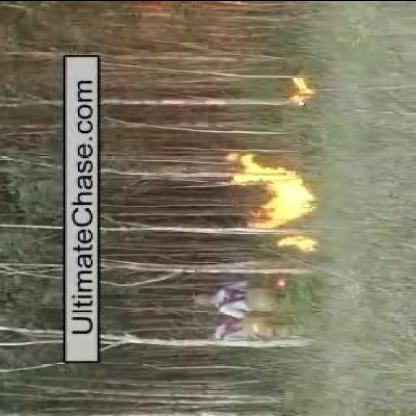foggia-v2-map80-epoch100 - v1 4323: (232, 154, 316, 229)
